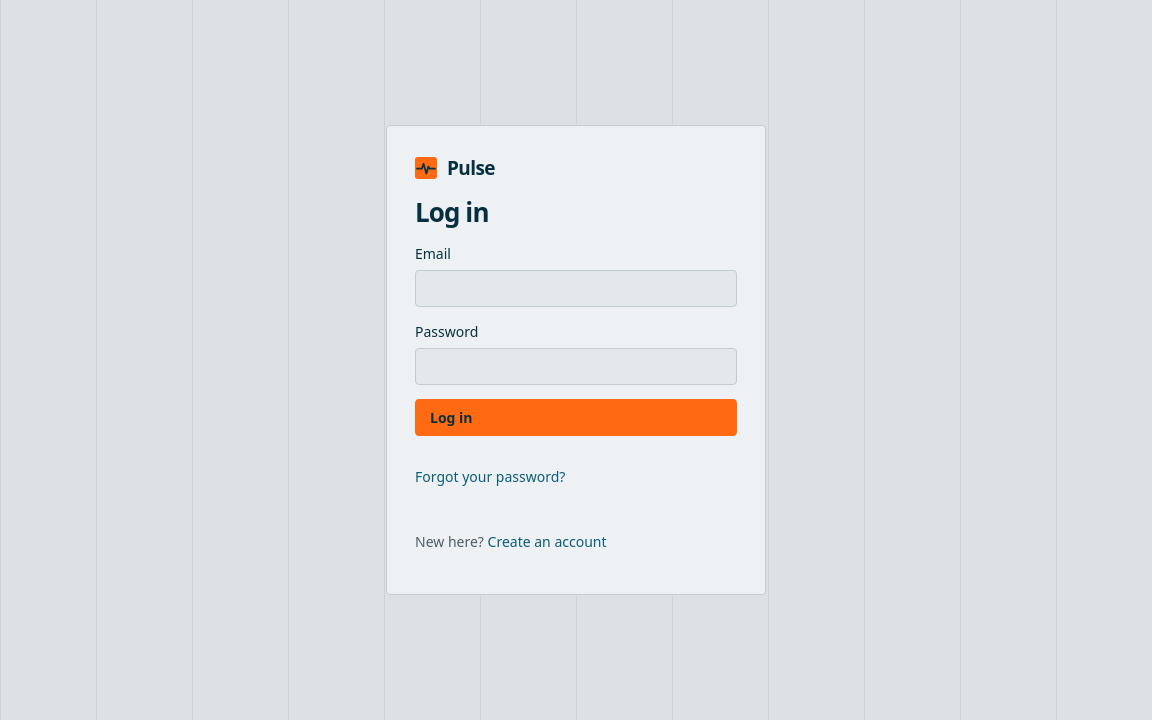
Test case: the dashboard › shows login errors
This screenshot has width=1152, height=720.
Type "ada@example.com" into the field labelled "Email". click: (576, 288)
box: [415,270,737,307]
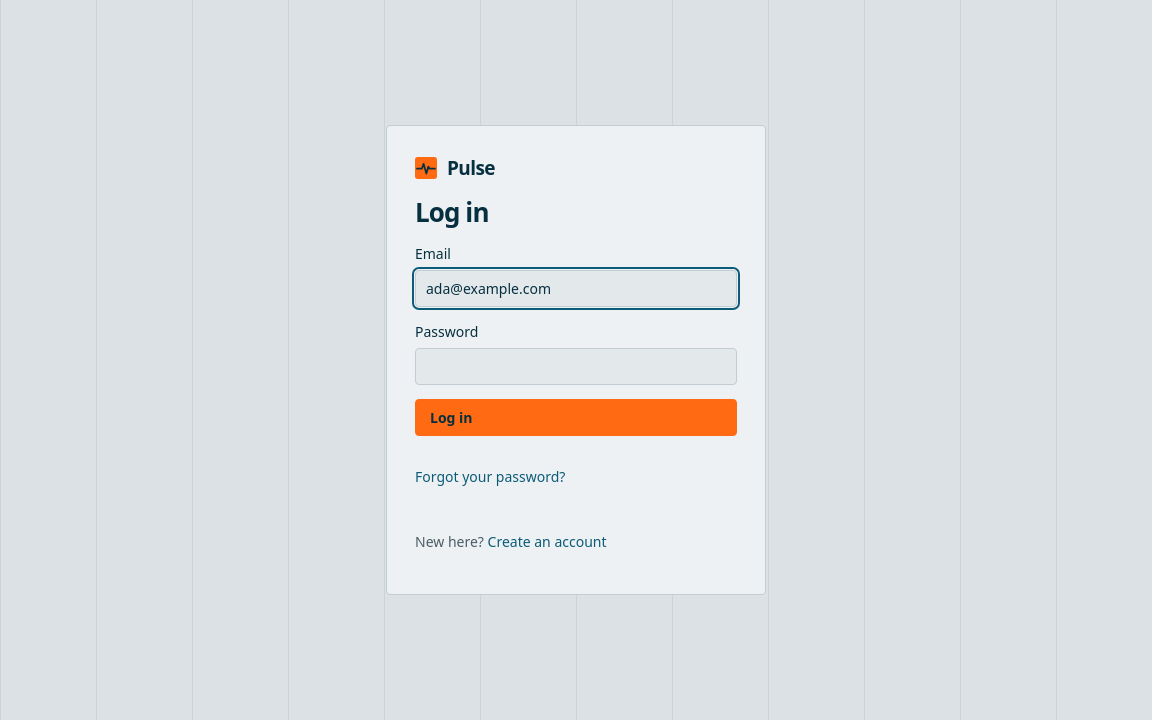
Type "wrong-password" into the password field labelled "Password". click: (576, 366)
box: [415,348,737,385]
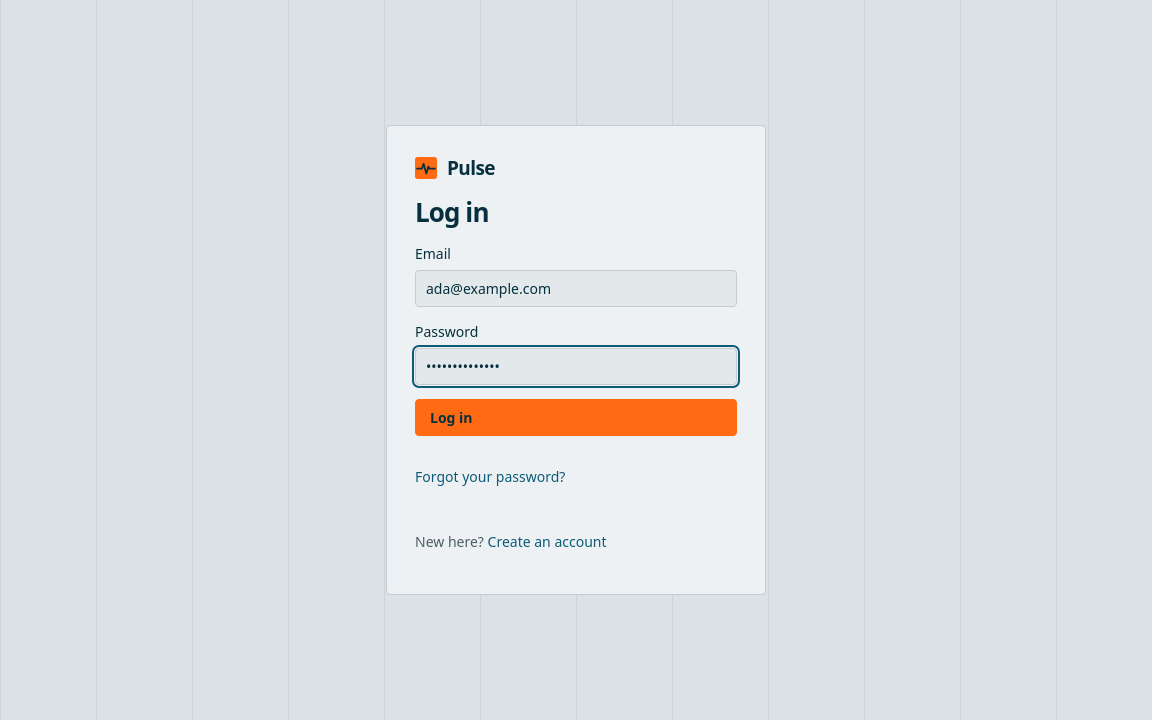
Click the button "Log in". click: (451, 418)
box: [415,399,737,436]
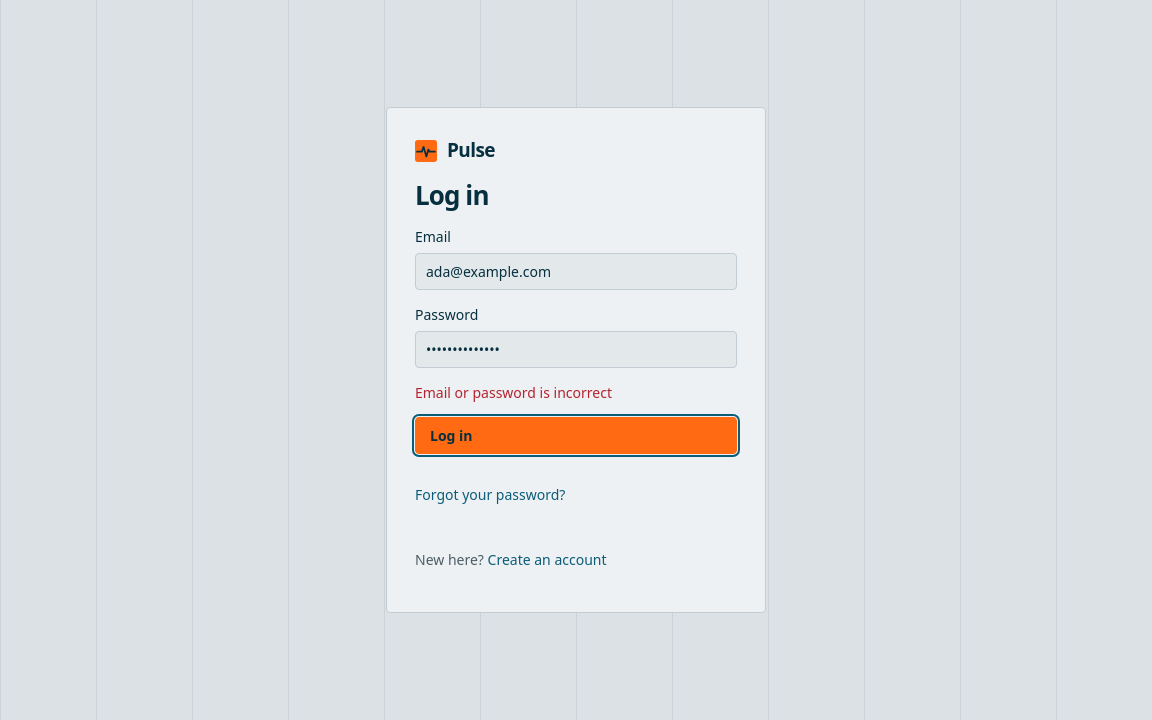
Expected: the message reads "Email or password is incorrect", [415,382,612,402]
